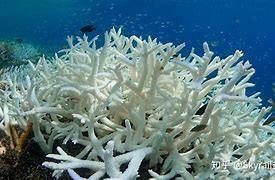bleached_corals: (0, 28, 275, 180)
